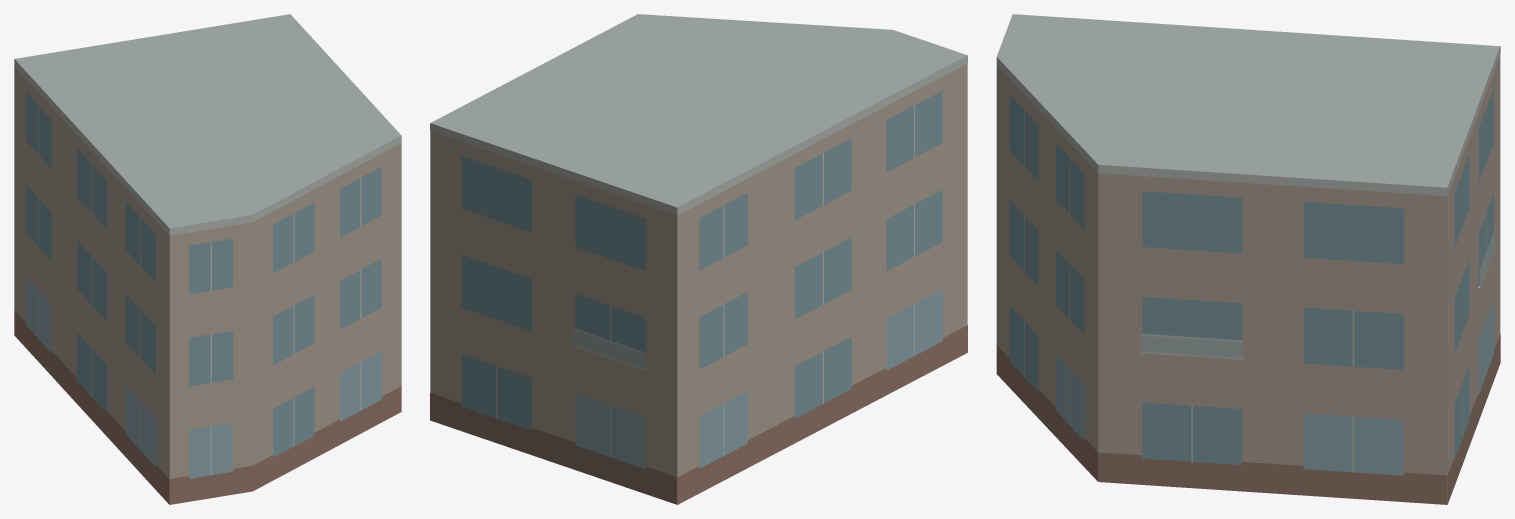
The model's file is survey-upis-32911654.glb.
The picture shows the model from 3 angles, left to right: view 1: azimuth 30°, elevation 25°; view 2: azimuth 150°, elevation 25°; view 3: azimuth 270°, elevation 25°; orthographic projection. The views are drawn at different scales.
Visible parts, largest first — view 1: survey-upis-32911654.tmp; view 2: survey-upis-32911654.tmp; view 3: survey-upis-32911654.tmp.
Boxes of the visible parts, x1,y1,x2,y2 form: survey-upis-32911654.tmp: [14, 14, 401, 504]; survey-upis-32911654.tmp: [430, 14, 967, 504]; survey-upis-32911654.tmp: [996, 14, 1500, 504].
Size of the model in its own units: 10.76 by 9.15 by 13.18.
